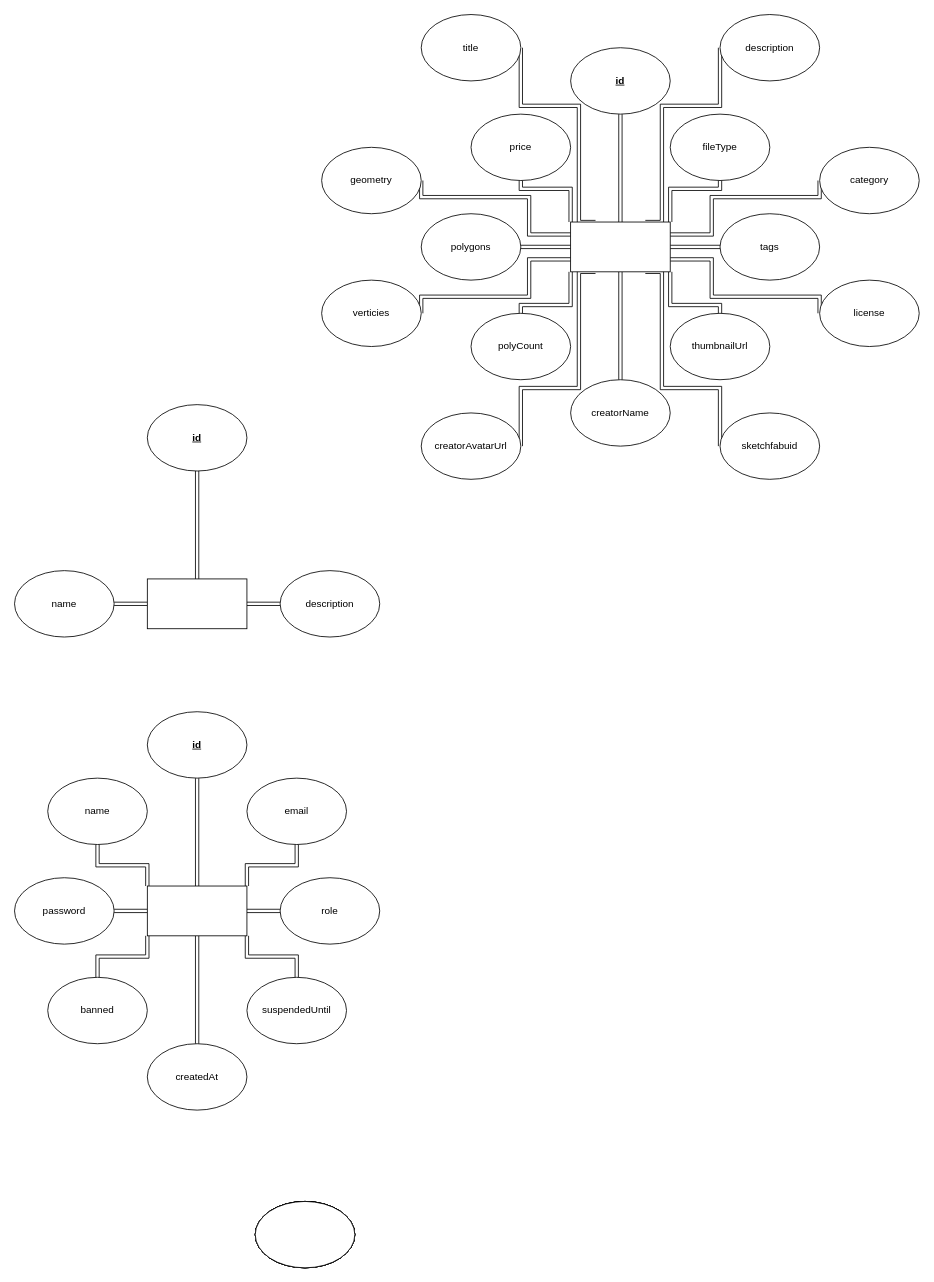
Some shapes in this 934 by 1282 pixel diagram are drawn without their labels. Each missing label, with the centre of its shape:
assets: (x=620, y=246)
categories: (x=196, y=603)
users: (x=196, y=910)
